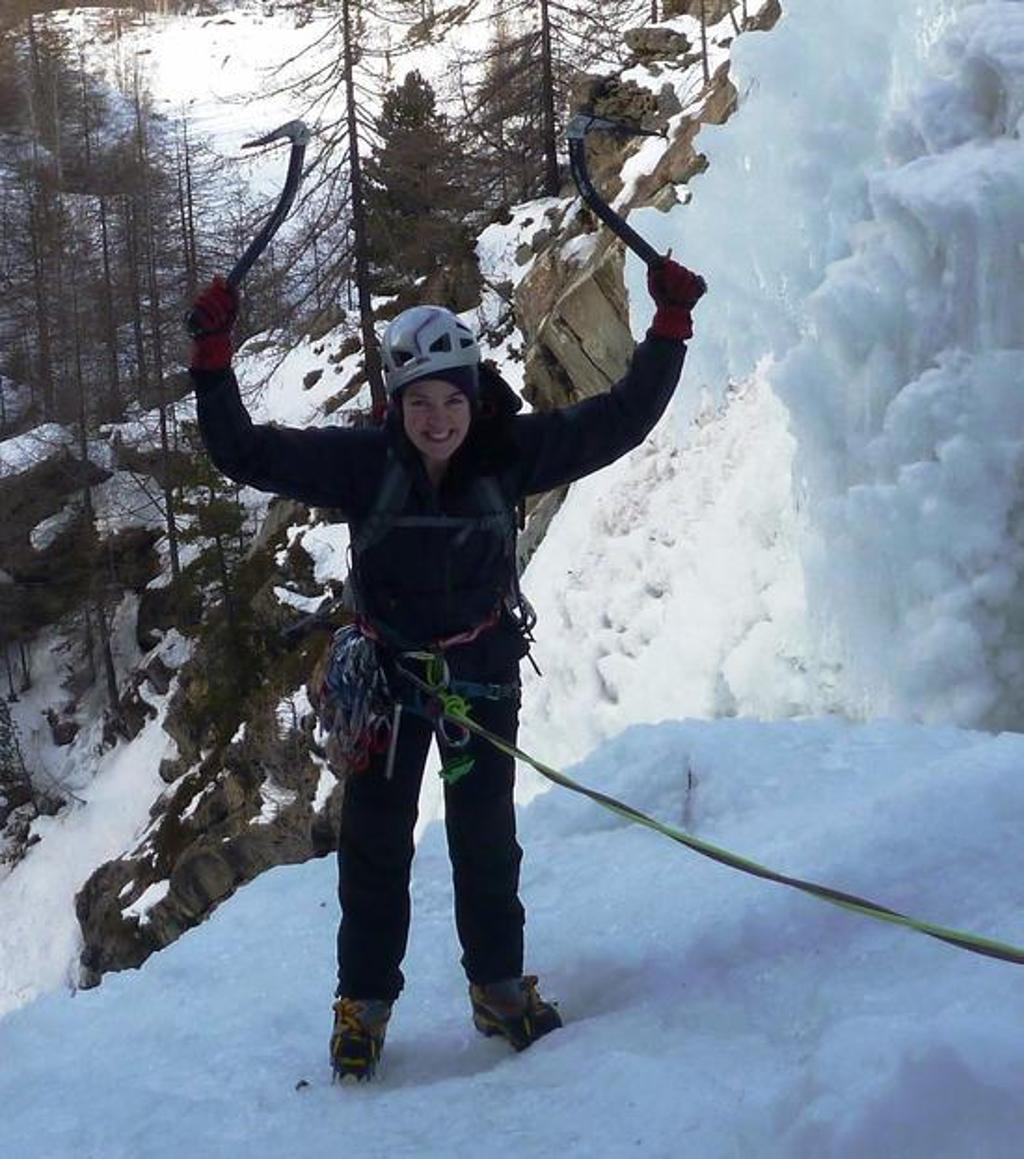face: (402, 366, 470, 459)
